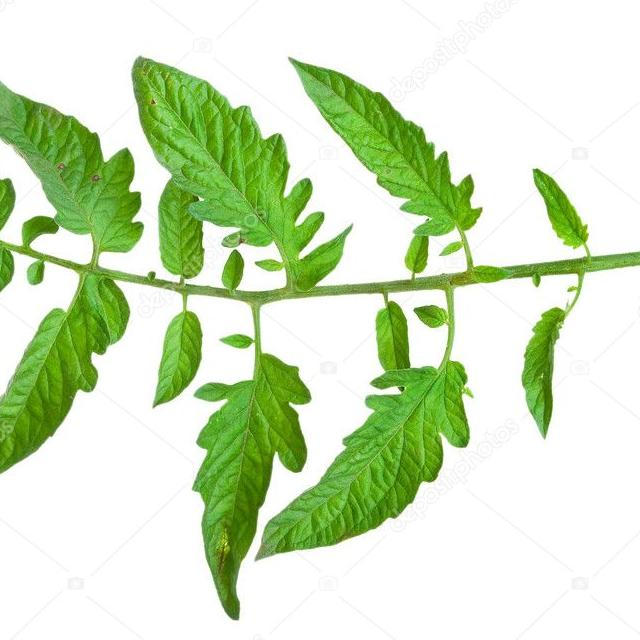Tomato leaf: (116, 48, 343, 287), (261, 343, 469, 564), (283, 51, 483, 263), (199, 344, 299, 633), (0, 85, 153, 270), (0, 283, 111, 496), (0, 125, 25, 326)
